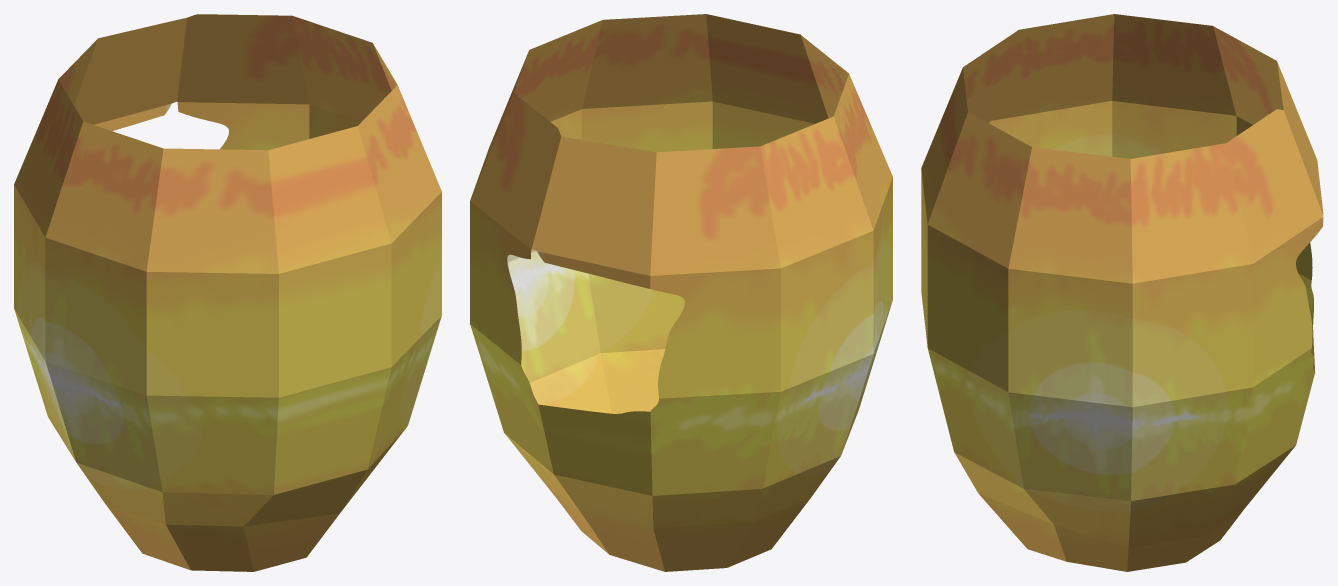
The model's file is LAMP LIGHT.FBX.
3 renders of one model, left to right at view 1: azimuth 30°, elevation 25°; view 2: azimuth 150°, elevation 25°; view 3: azimuth 270°, elevation 25°, orthographic.
Parts seen in each view (by area): view 1: Object001; view 2: Object001; view 3: Object001.
Part boxes in pixels (box(x1,y1,x2,y2)): Object001: box(14, 14, 441, 571); Object001: box(470, 14, 892, 571); Object001: box(921, 14, 1323, 571).
Size of the model in its own units: 11.33 by 12.93 by 10.53.
1 material, 1 textured.
